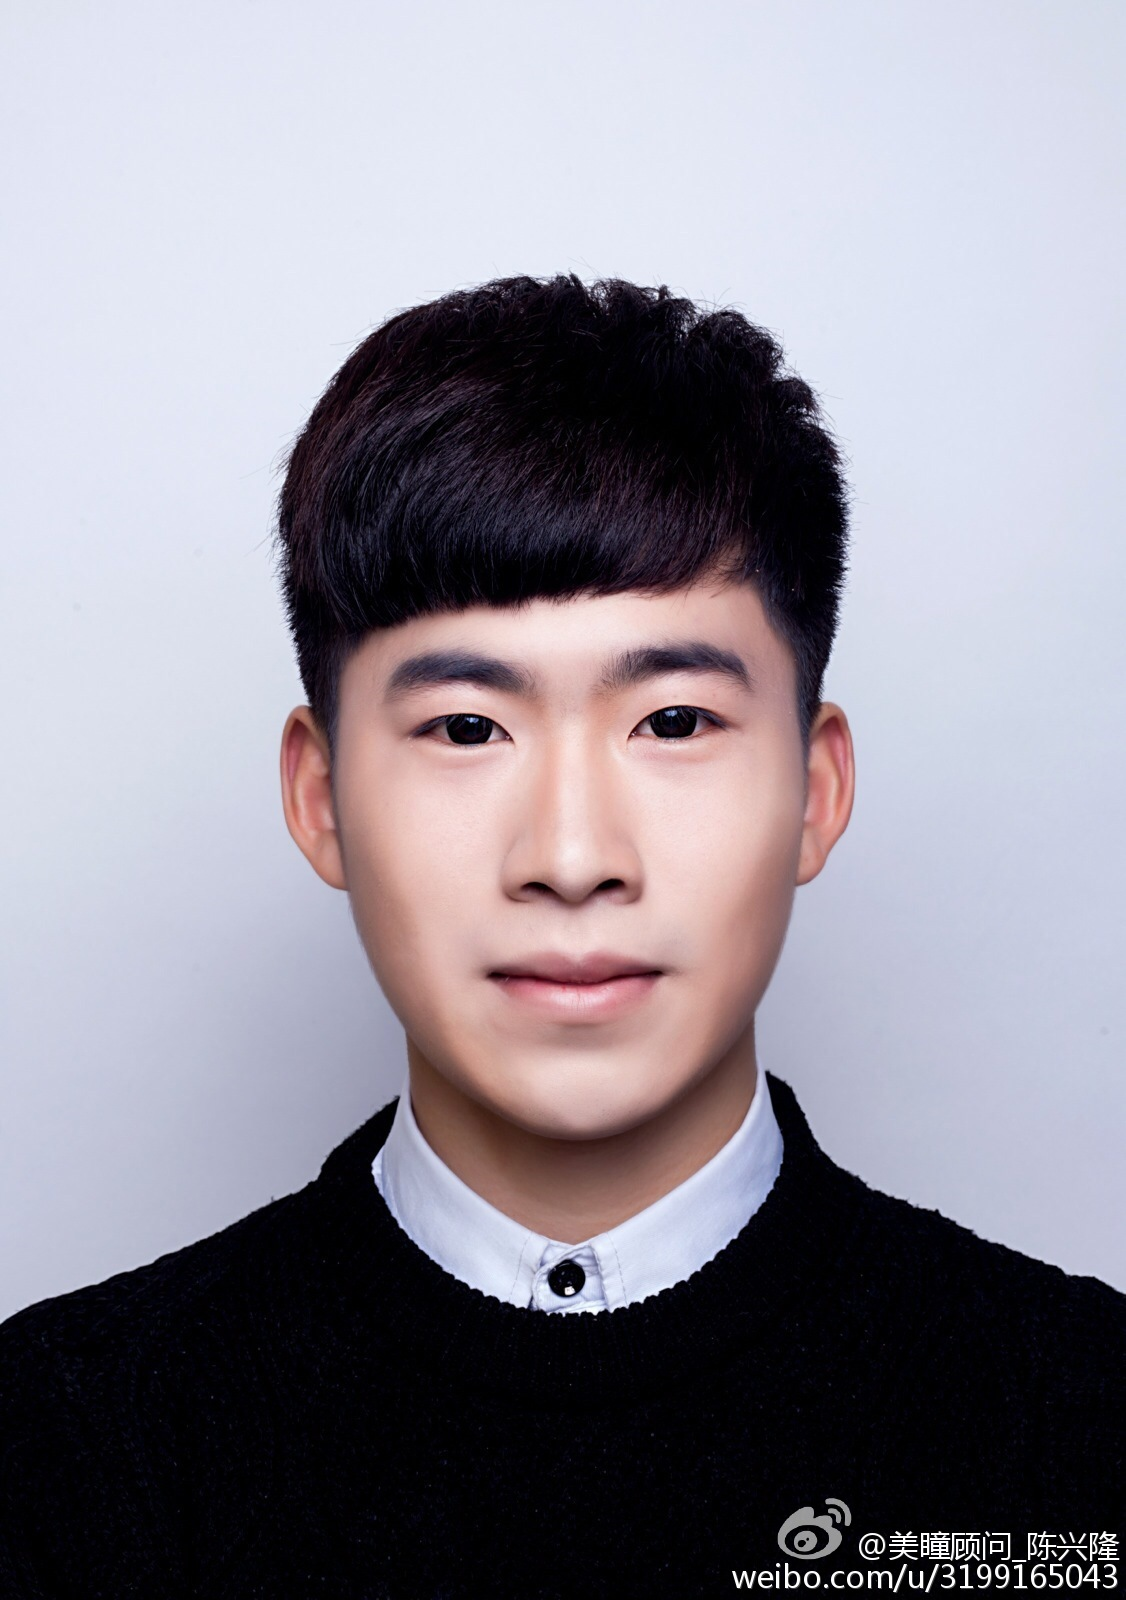unmask: (349, 584, 777, 1119)
